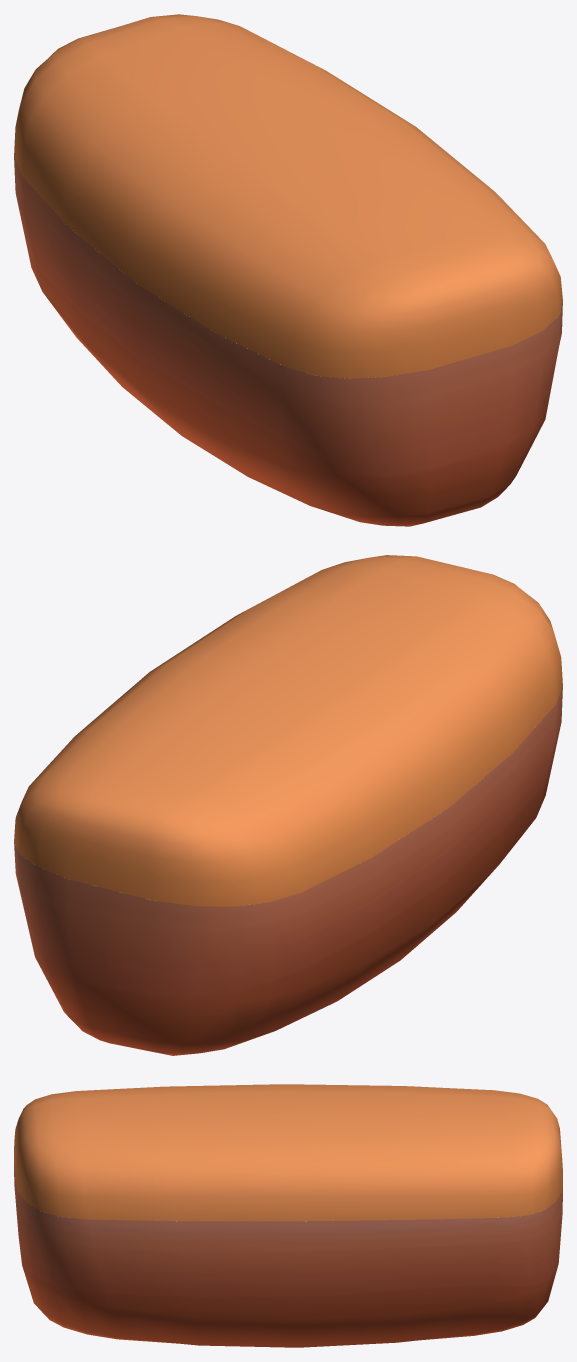
Rendered from Pathway_4.glb.
3 renders of one model, top to bottom at view 1: azimuth 30°, elevation 25°; view 2: azimuth 150°, elevation 25°; view 3: azimuth 270°, elevation 25°, orthographic. The views are drawn at different scales.
Visible parts, largest first — view 1: Pathway_4; view 2: Pathway_4; view 3: Pathway_4.
Part boxes in pixels (x1,y1,x2,y2): Pathway_4: (14,14,562,526); Pathway_4: (14,555,562,1055); Pathway_4: (14,1084,562,1347).
Bounding box in the file's own units: 1.86 × 1.64 × 3.79.
2 materials, 2 textured.
